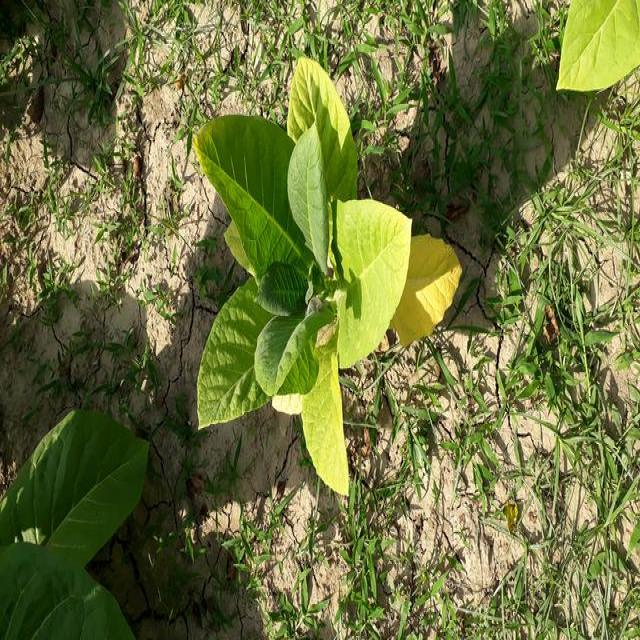crop: (190, 54, 464, 498), (2, 418, 153, 638), (555, 4, 640, 93)
